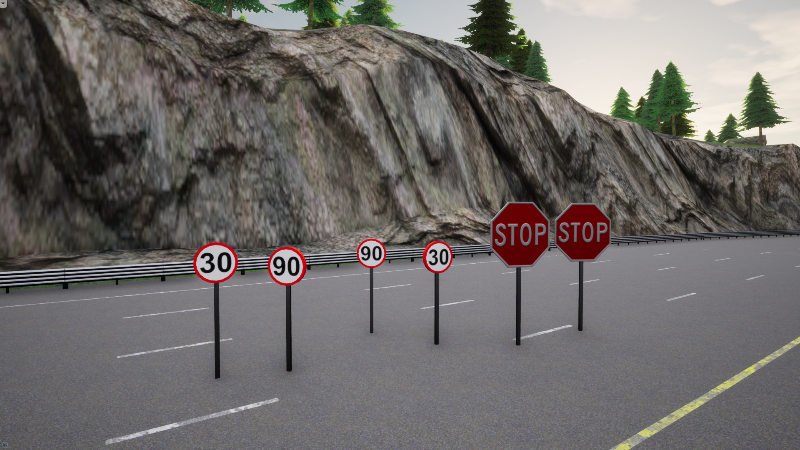fast: (268, 246, 307, 286), (356, 239, 387, 268)
slow: (193, 242, 237, 284), (421, 240, 454, 273)
stop: (489, 201, 551, 268), (555, 202, 611, 262)
